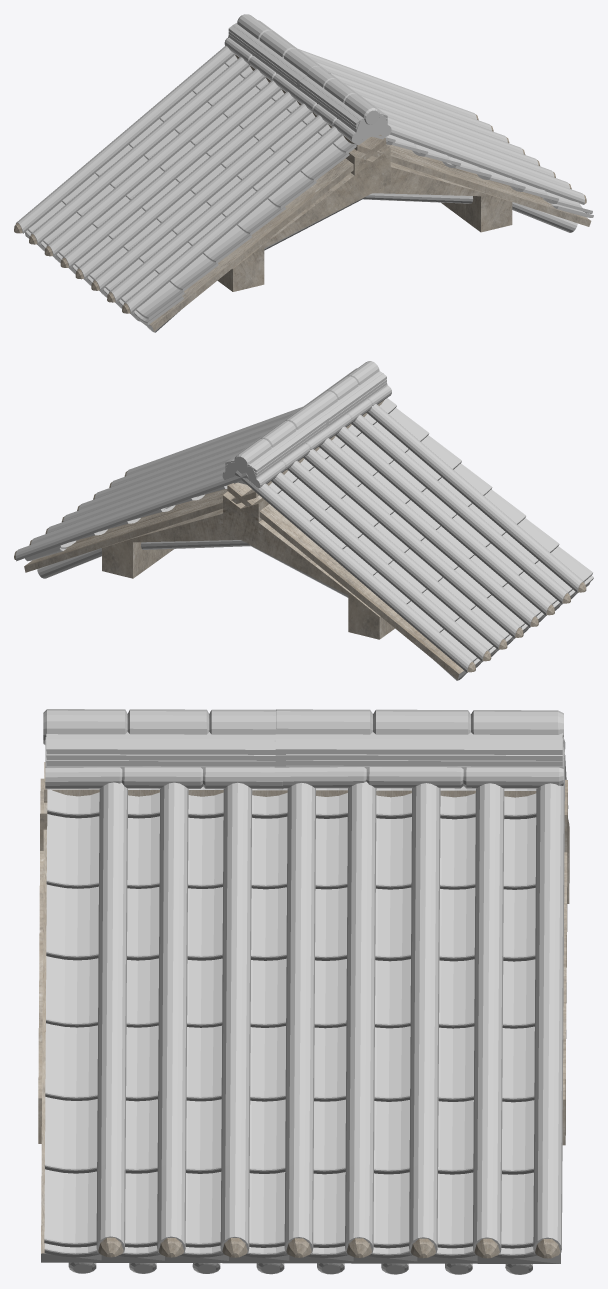
File: SM_RoomRoof.fbx
3 renders of one model, top to bottom at view 1: azimuth 30°, elevation 25°; view 2: azimuth 150°, elevation 25°; view 3: azimuth 270°, elevation 25°, orthographic. The views are drawn at different scales.
Parts seen in each view (by area): view 1: SM_RoomRoof; view 2: SM_RoomRoof; view 3: SM_RoomRoof.
Boxes of the visible parts, x1,y1,x2,y2 form: SM_RoomRoof: (14, 14, 593, 332); SM_RoomRoof: (14, 361, 593, 680); SM_RoomRoof: (38, 709, 569, 1274).
Size of the model in its own units: 903 by 449 by 338.
